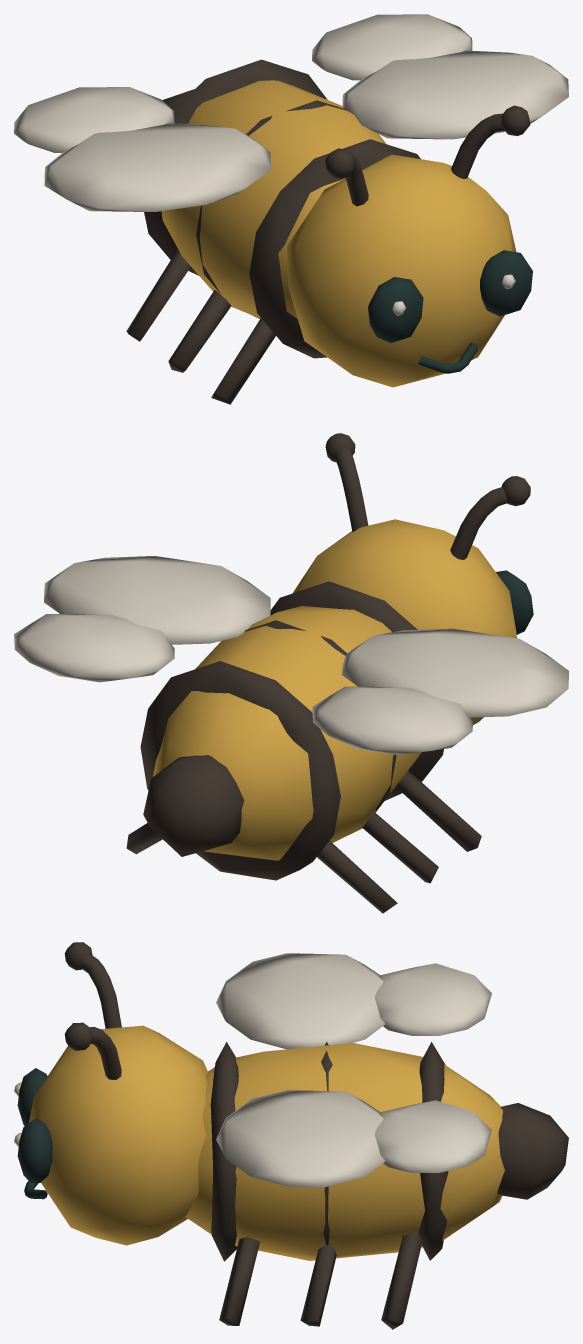
Rendered from org_honeybee.glb.
3 views of the same model, one above another, from view 1: azimuth 30°, elevation 25°; view 2: azimuth 150°, elevation 25°; view 3: azimuth 270°, elevation 25° (orthographic). The views are drawn at different scales.
Visible parts, largest first — view 1: Head, Body, Wing_R, Wing_L, Eye_R, Eye_L; view 2: Body, Wing_R, Wing_L, Head, Tail, Eye_R; view 3: Body, Head, Wing_L, Wing_R, Tail, Eye_L, Eye_R.
Boxes of the visible parts, left/top/right/bottom form: Head: left=287, top=105, right=530, bottom=387; Body: left=126, top=59, right=420, bottom=404; Wing_R: left=14, top=87, right=270, bottom=211; Wing_L: left=312, top=14, right=568, bottom=139; Eye_R: left=368, top=277, right=423, bottom=342; Eye_L: left=480, top=250, right=532, bottom=316; Body: left=126, top=581, right=481, bottom=913; Wing_R: left=312, top=628, right=568, bottom=754; Wing_L: left=14, top=556, right=270, bottom=682; Head: left=293, top=433, right=530, bottom=724; Tail: left=143, top=755, right=244, bottom=856; Eye_R: left=496, top=570, right=533, bottom=634; Body: left=185, top=1042, right=504, bottom=1329; Head: left=24, top=942, right=208, bottom=1245; Wing_L: left=216, top=1090, right=491, bottom=1187; Wing_R: left=216, top=953, right=491, bottom=1049; Tail: left=497, top=1103, right=568, bottom=1199; Eye_L: left=14, top=1118, right=52, bottom=1182; Eye_R: left=14, top=1068, right=47, bottom=1125.
Size of the model in its own units: 0.6042 by 0.3516 by 0.6123.
